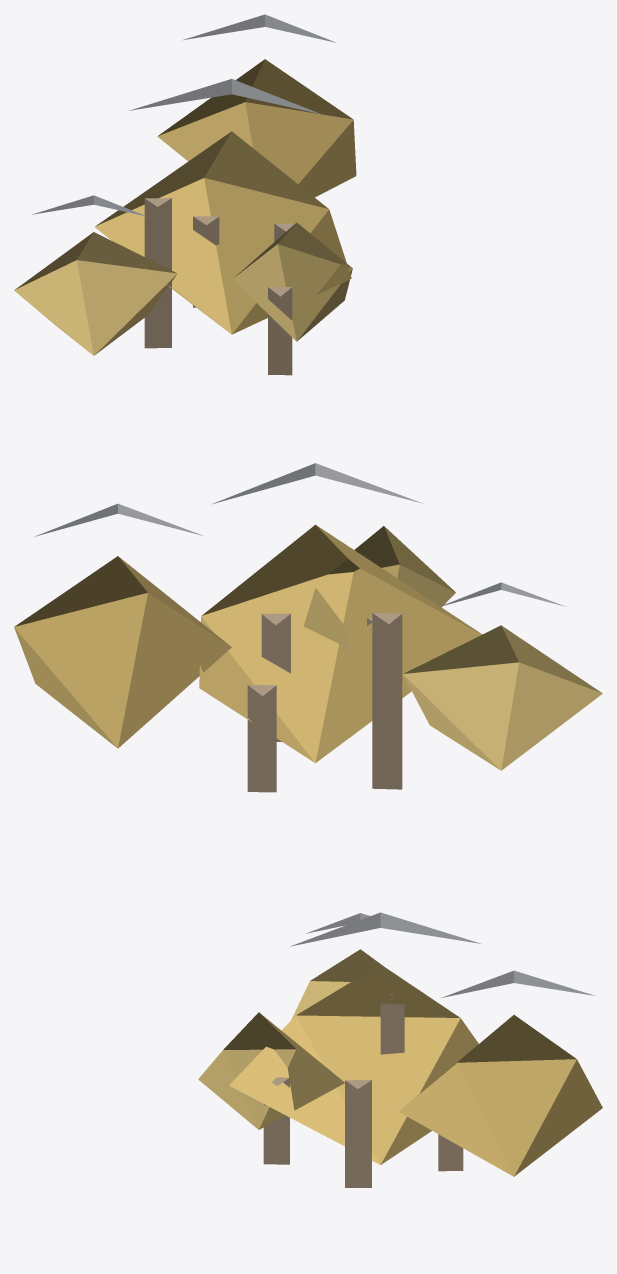
Rendered from shrub.cold.dwarf_birch__autumn.glb.
3 views of the same model, one above another, from view 1: azimuth 30°, elevation 25°; view 2: azimuth 150°, elevation 25°; view 3: azimuth 270°, elevation 25° (orthographic). The views are drawn at different scales.
Parts seen in each view (by area): view 1: shrub.cold.dwarf_birch__autumn; view 2: shrub.cold.dwarf_birch__autumn; view 3: shrub.cold.dwarf_birch__autumn.
Boxes of the visible parts, x1,y1,x2,y2 form: shrub.cold.dwarf_birch__autumn: (14, 14, 356, 375); shrub.cold.dwarf_birch__autumn: (14, 463, 602, 792); shrub.cold.dwarf_birch__autumn: (198, 912, 602, 1187).
Size of the model in its own units: 1.74 by 1.07 by 2.21.
